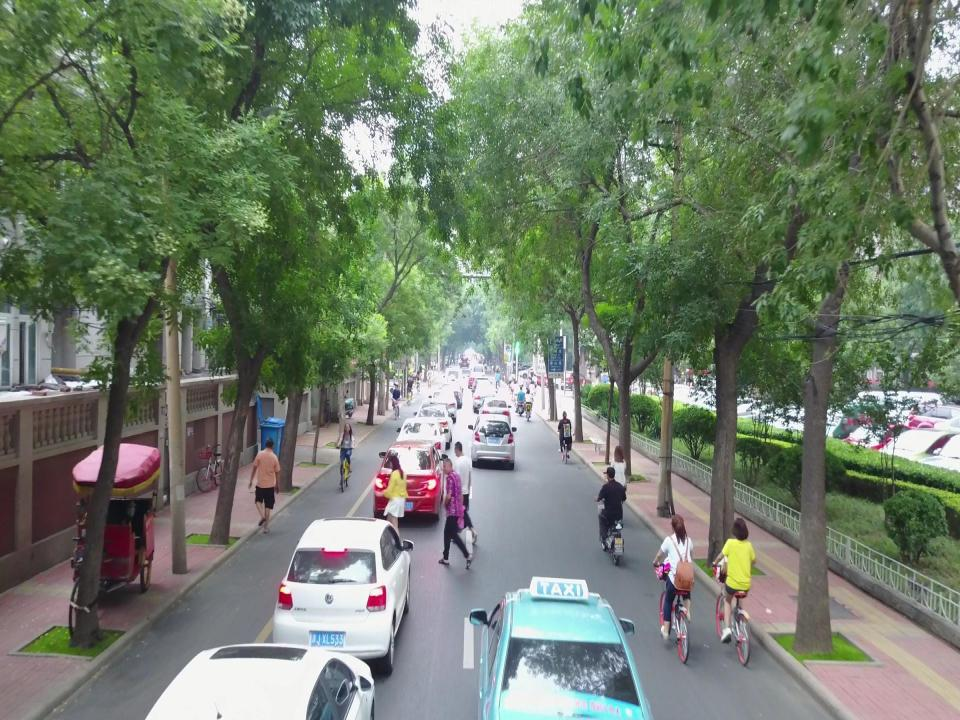car: (465, 573, 654, 720), (273, 514, 414, 680), (147, 641, 378, 720), (376, 443, 442, 521), (471, 415, 516, 472), (395, 419, 447, 466), (412, 404, 456, 449), (481, 399, 512, 430), (429, 390, 457, 418), (560, 370, 592, 391), (472, 385, 498, 409), (438, 383, 464, 405), (547, 371, 571, 388), (538, 371, 564, 386), (472, 378, 493, 395), (468, 372, 485, 388), (518, 366, 540, 377), (514, 363, 536, 373), (459, 356, 469, 369)
van: (444, 368, 464, 388), (470, 363, 485, 382)
